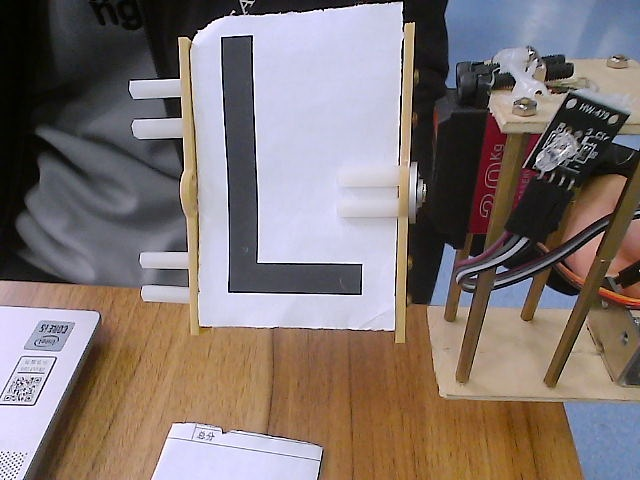L: (107, 1, 452, 359)
